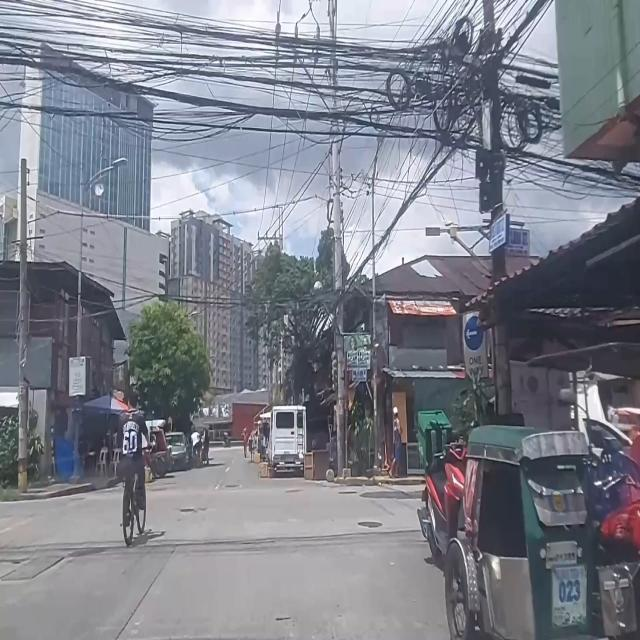bike: (116, 392, 152, 540)
car: (162, 432, 192, 475)
motorcycle: (418, 424, 470, 569)
tricycle: (448, 410, 638, 640), (146, 428, 172, 478)
truck: (268, 405, 306, 478)
